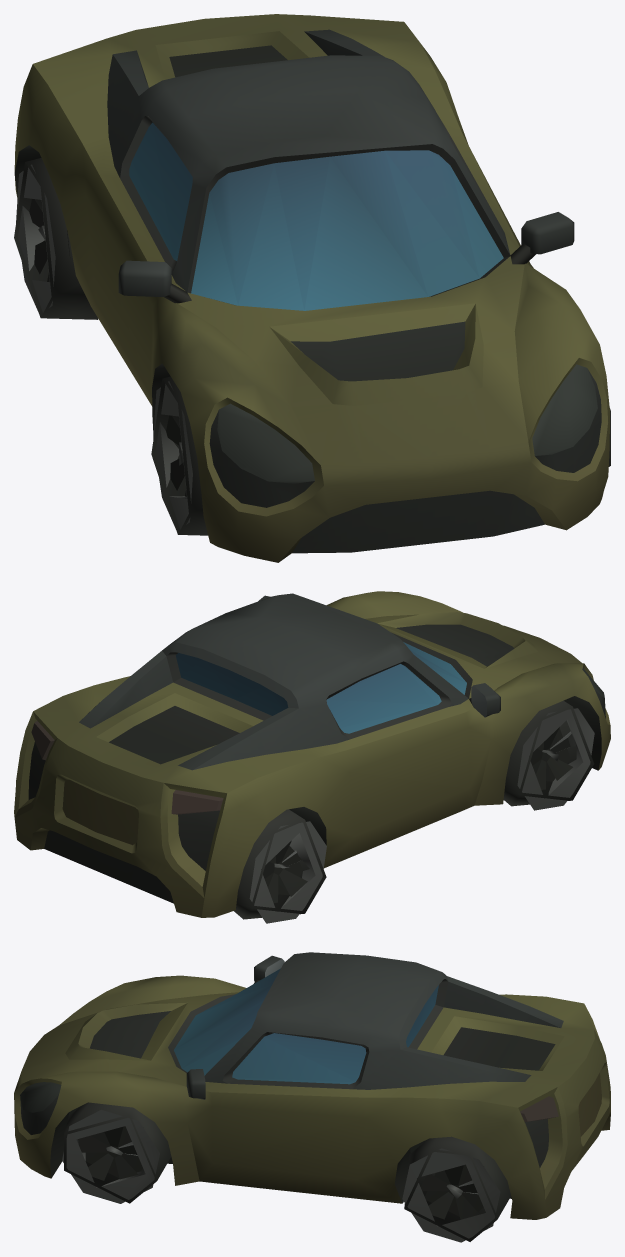
The model's file is ct_car_b.glb.
3 views of the same model, one above another, from view 1: azimuth 30°, elevation 25°; view 2: azimuth 150°, elevation 25°; view 3: azimuth 270°, elevation 25° (orthographic). The views are drawn at different scales.
Visible parts, largest first — view 1: ct_car_b; view 2: ct_car_b; view 3: ct_car_b.
Boxes of the visible parts, x1,y1,x2,y2 form: ct_car_b: (14, 14, 610, 562); ct_car_b: (14, 591, 610, 923); ct_car_b: (14, 952, 610, 1242).
Bounding box in the file's own units: 2.75 × 1.45 × 4.15.
